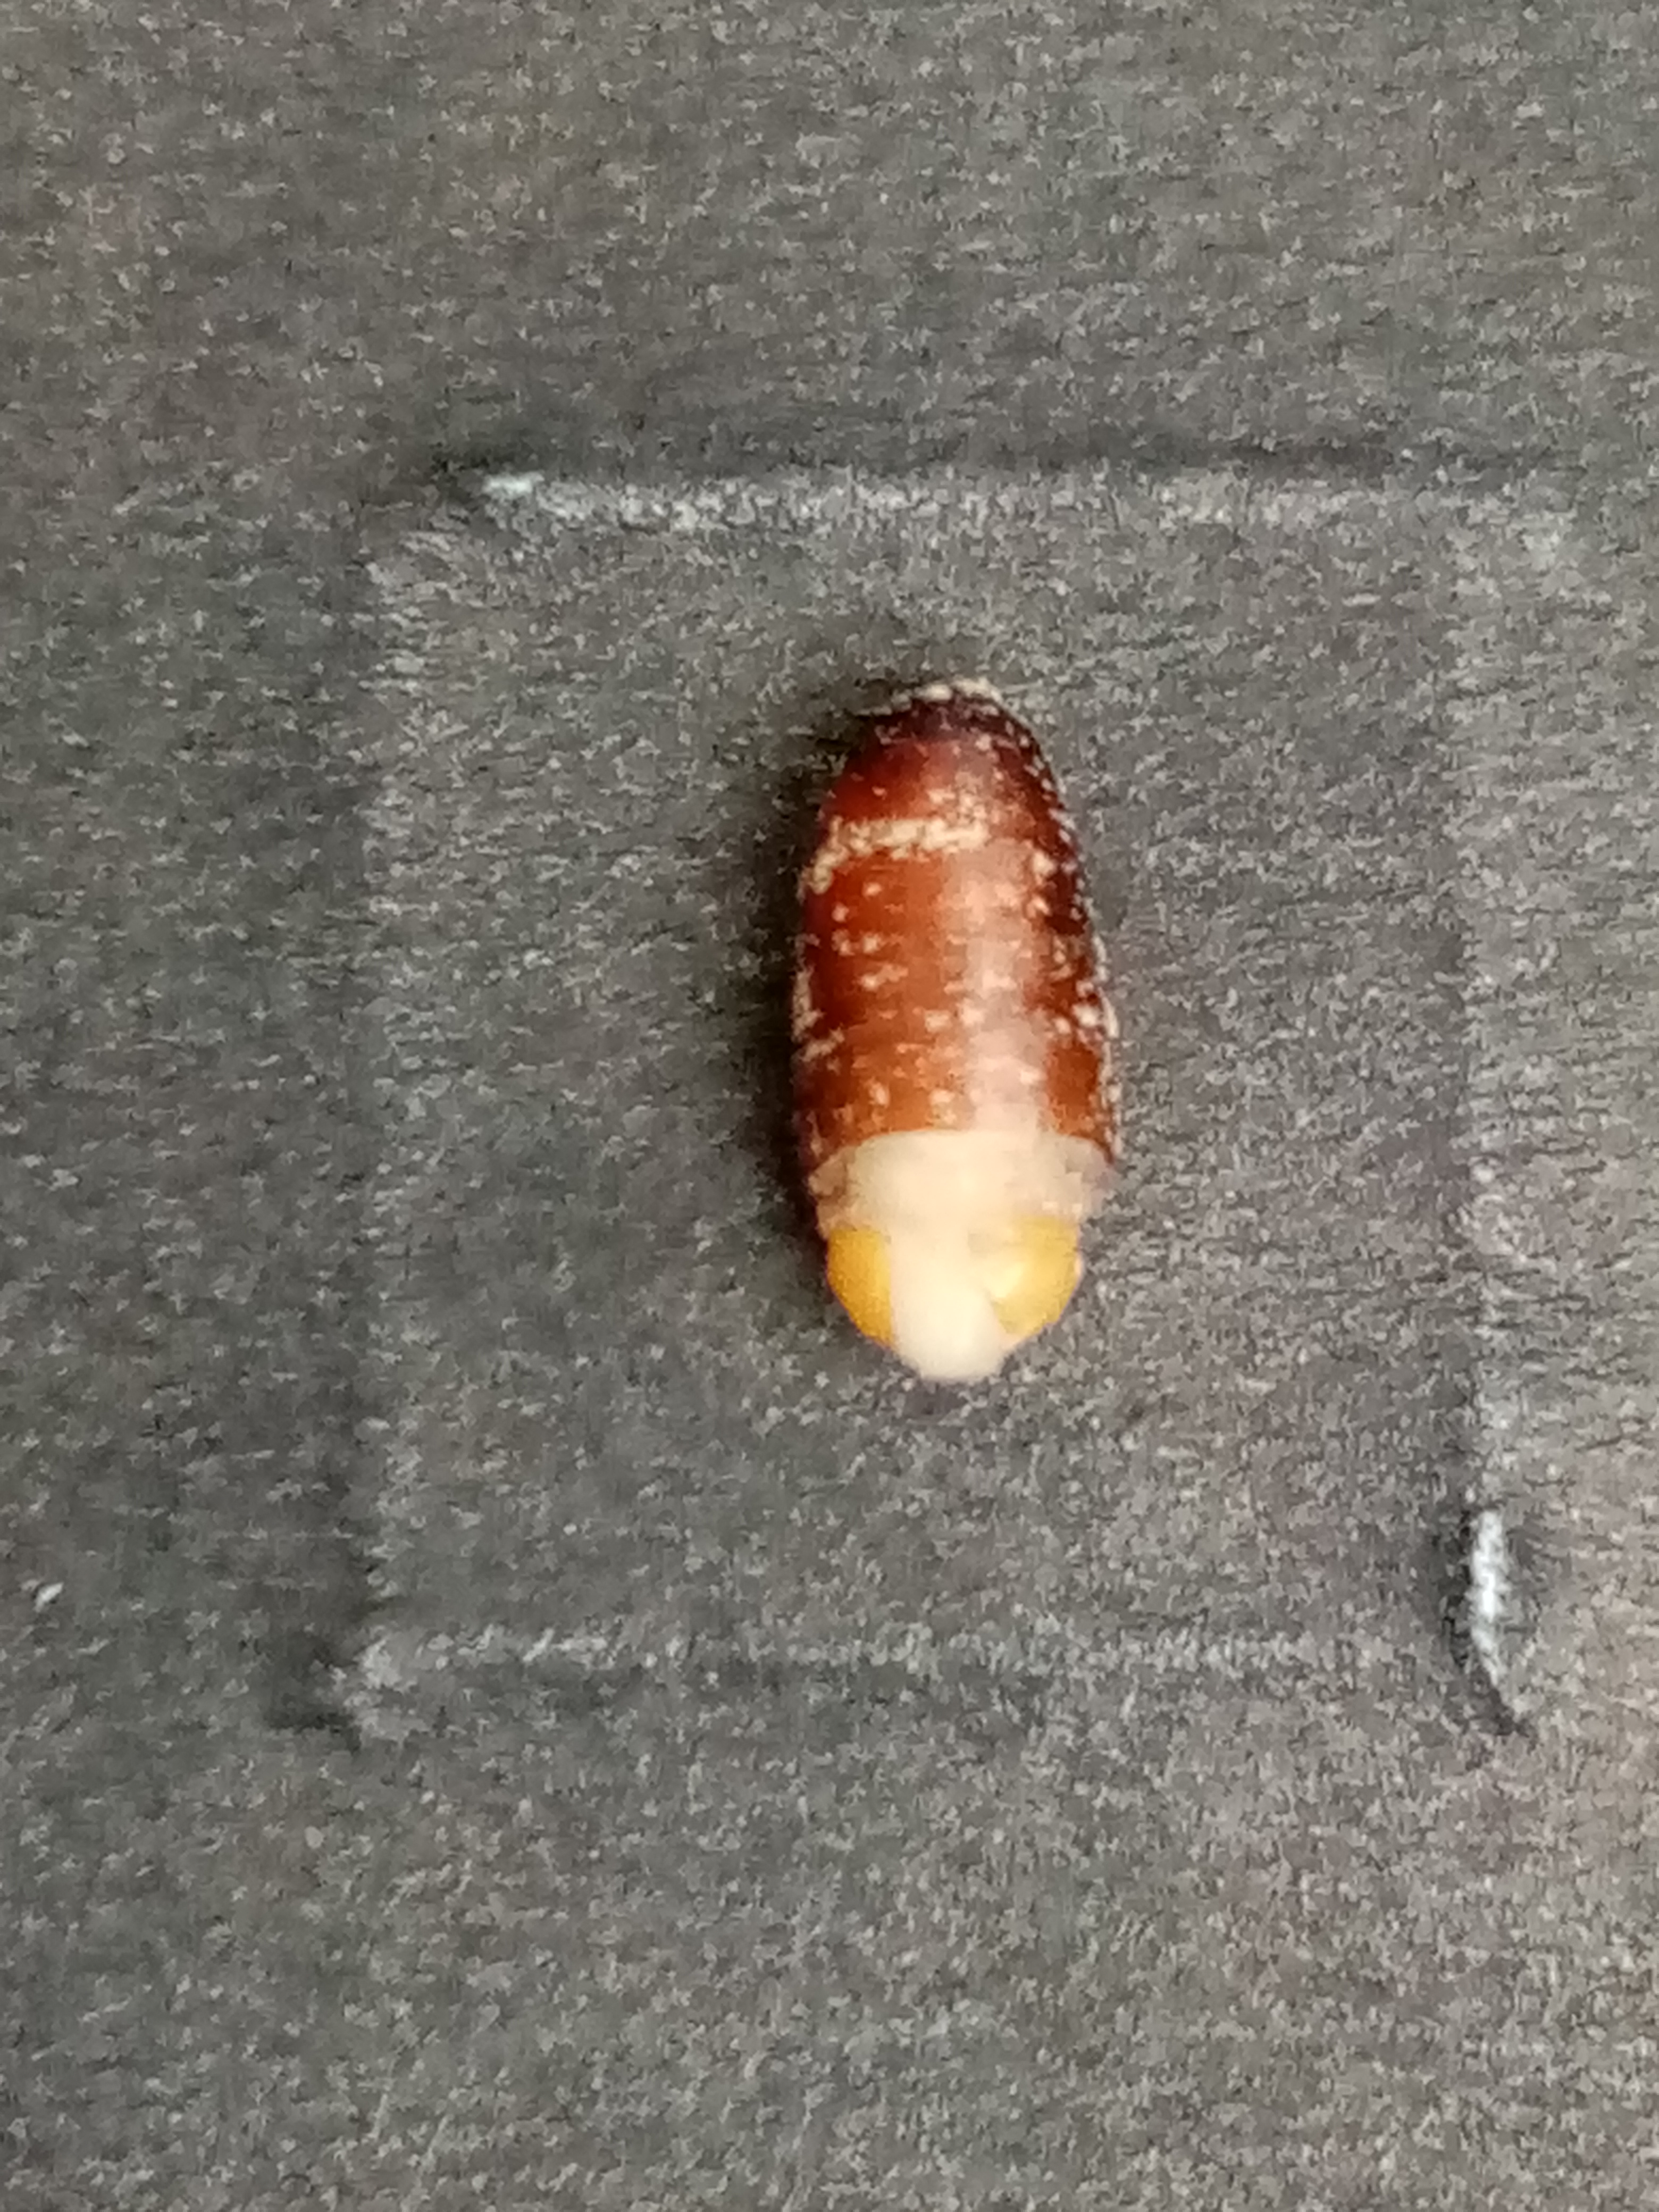pupa: (795, 1144, 1129, 1371)
